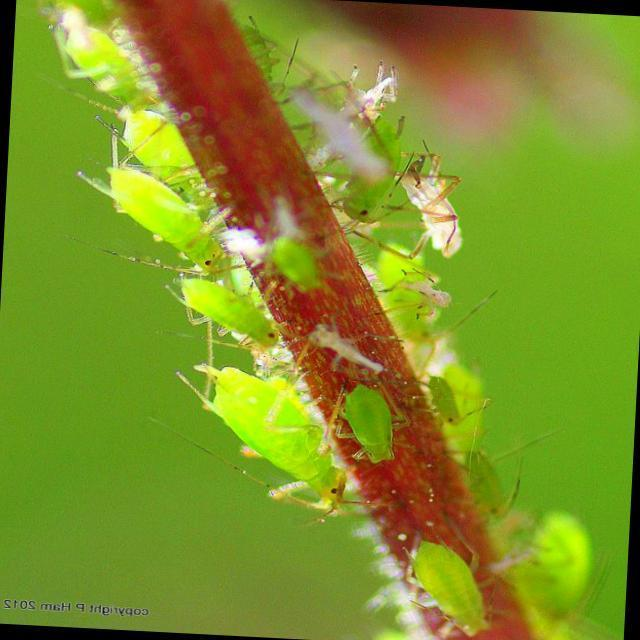aphid: (198, 357, 352, 526), (90, 150, 252, 286), (163, 266, 308, 367), (324, 363, 433, 484), (392, 518, 499, 640), (451, 443, 532, 531), (421, 366, 494, 440)
